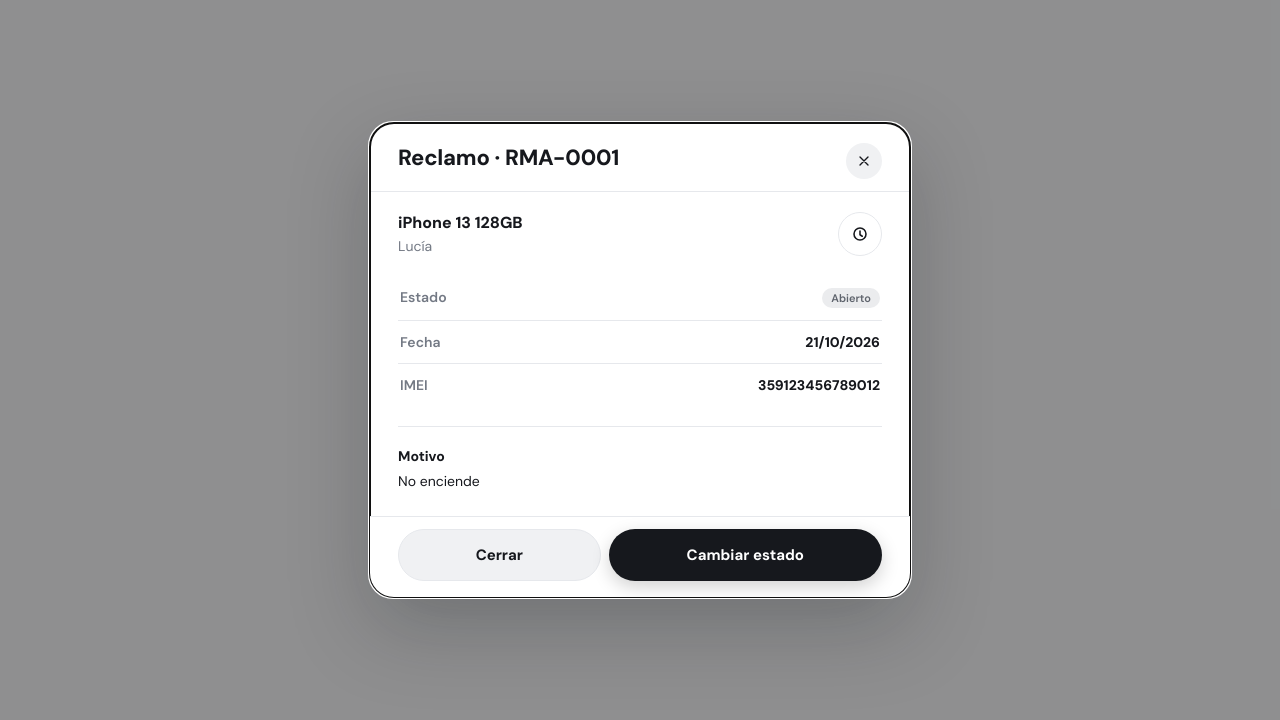
Scenario: rediseño aprobado de reclamos › opens complete history in a second layer and preserves the draft (phone: false)
Click the button "Cambiar estado" at (745, 555), box [608,529,882,581]
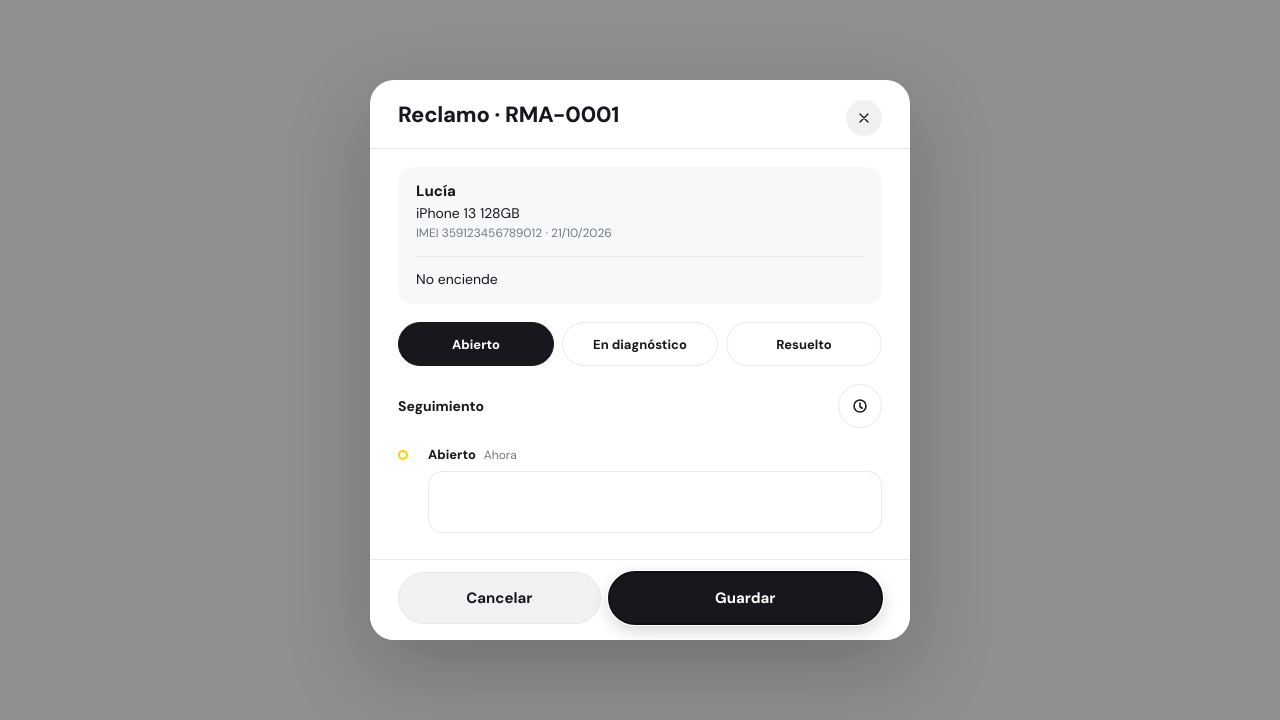
Check: the button named "Ver historial (2)" is empty, box [838,384,882,428]
Check: the icon in the row of "Seguimiento" is shown, box [851,397,869,415]
Type "Borrador" into the text box named "Nota de seguimiento" at (655, 502), box [428,471,882,533]
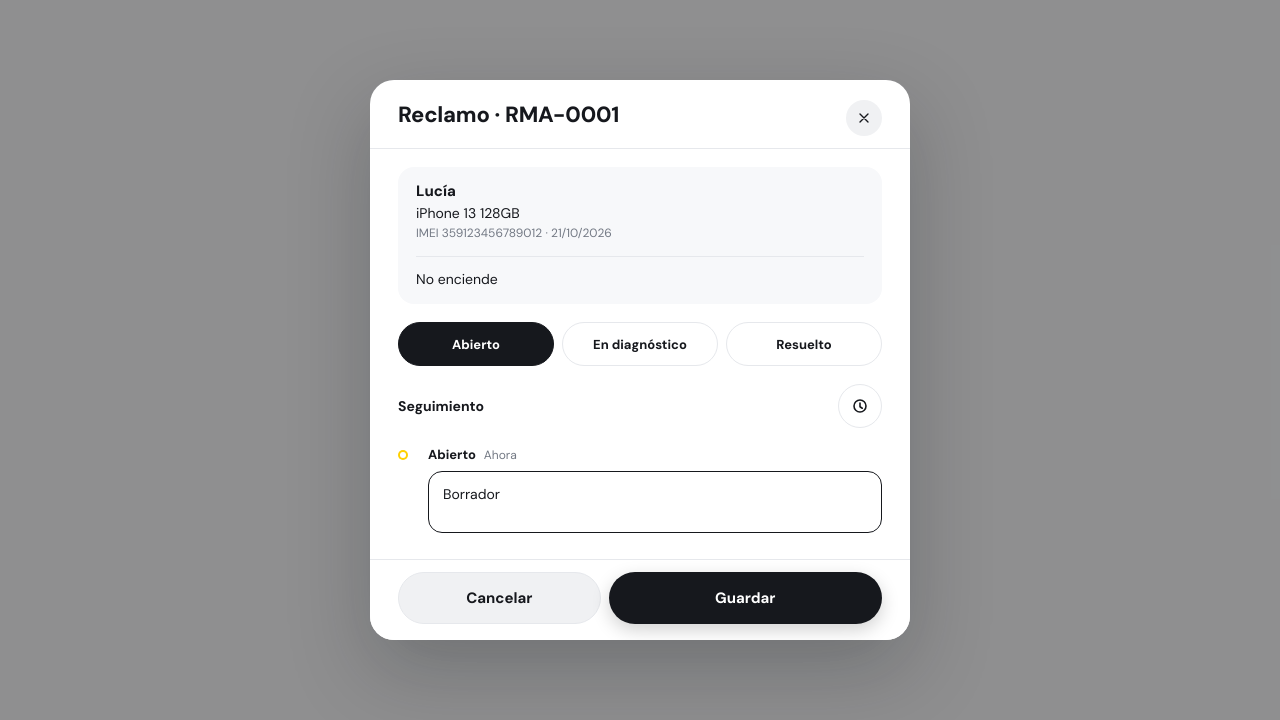
Click the button named "Ver historial (2)" at (860, 406), box [838,384,882,428]
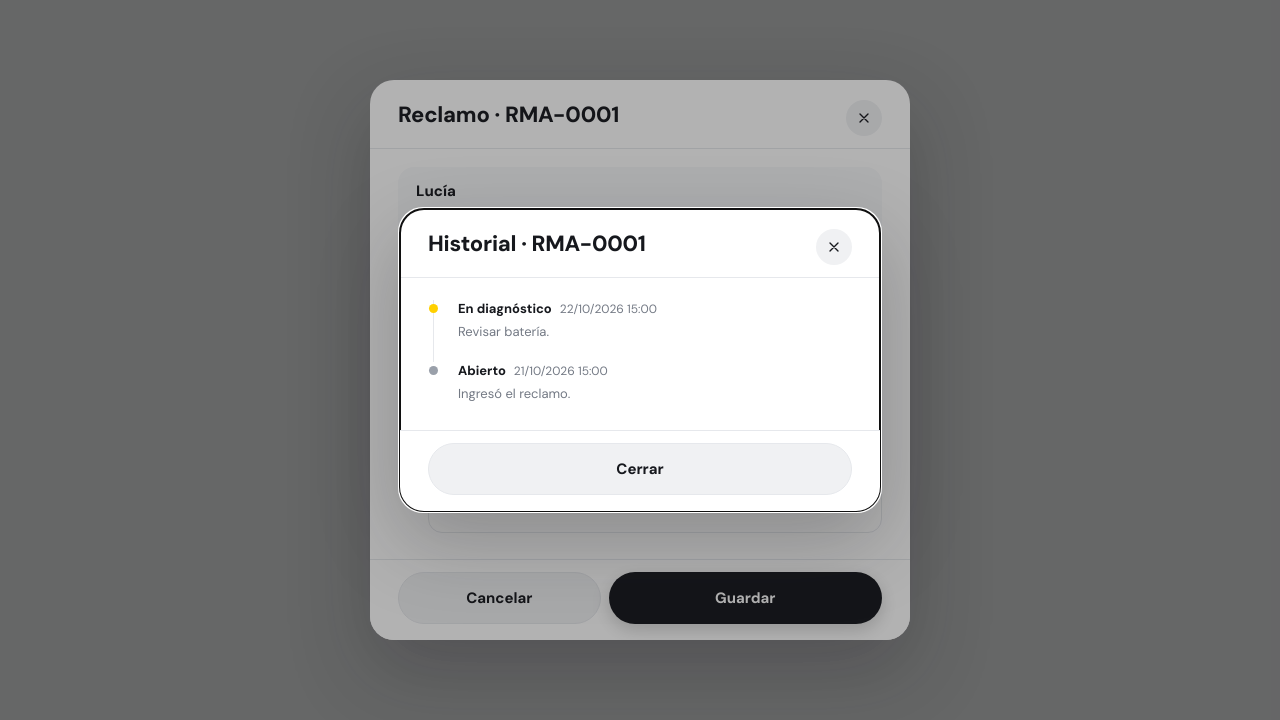
Check: the list item "En diagnóstico 22/10/2026 15:00 Revisar batería." is shown, box [433,300,852,362]
Check: the text "Ingresó el reclamo." is shown, box [458,385,570,402]
Click the button "Cerrar" at (640, 469), box [428,443,852,495]
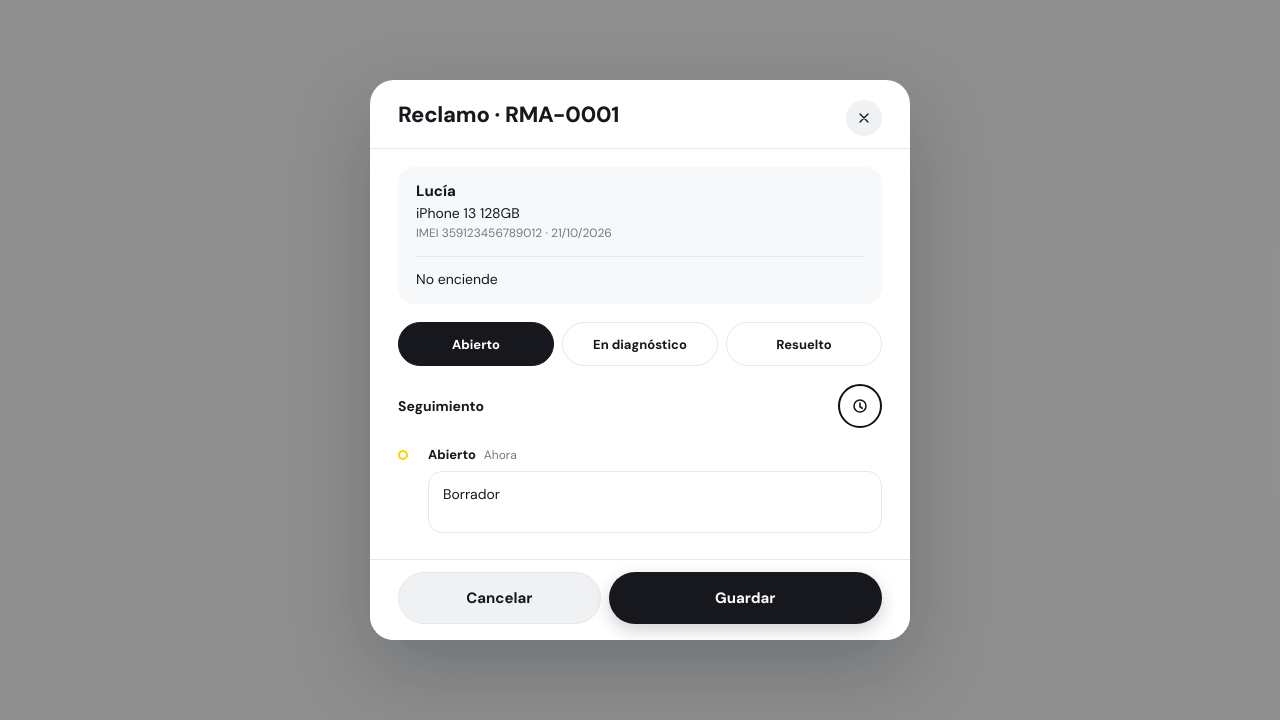
Check: the heading "Historial · RMA-0001" is gone
